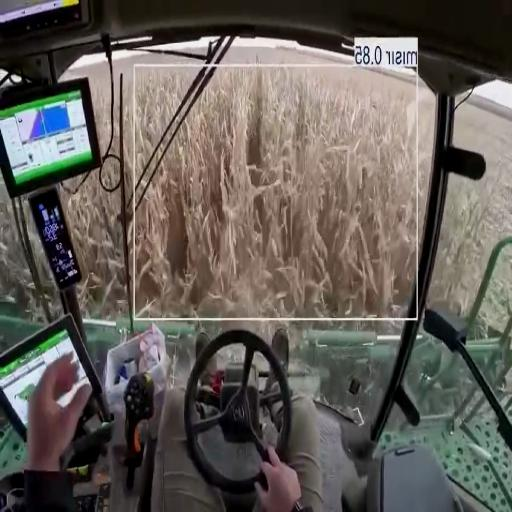misir: (62, 48, 435, 319), (1, 191, 57, 316)
